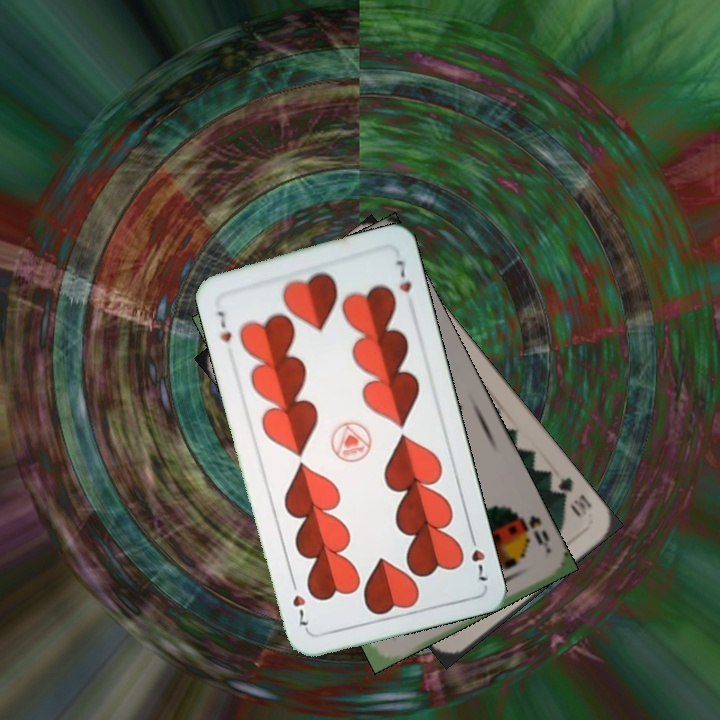G10: (545, 472, 595, 519)
H7: (466, 529, 491, 584), (213, 307, 235, 345)
SO: (509, 506, 553, 555)
